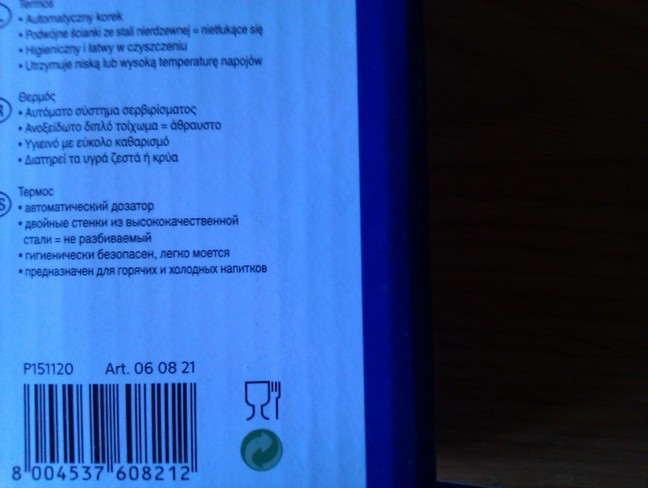barcode: (15, 377, 212, 469)
